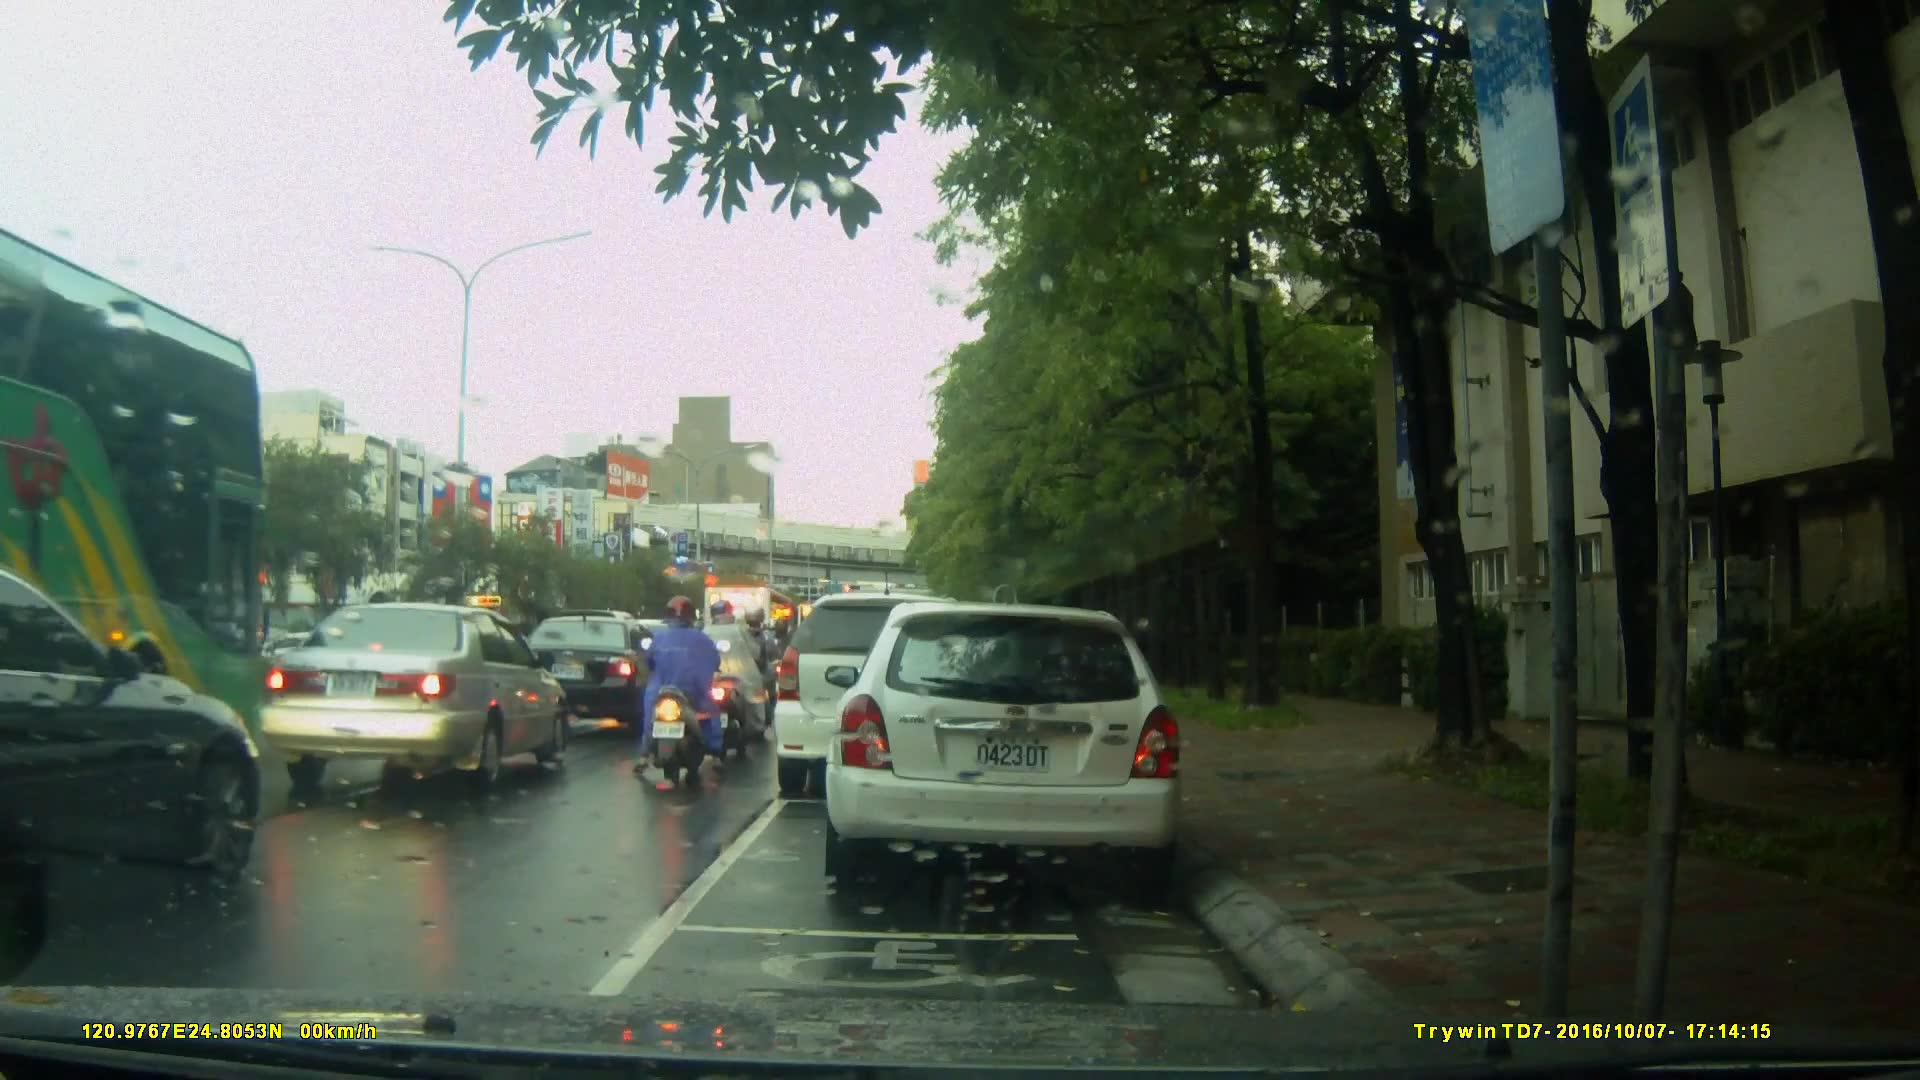rider: (626, 592, 731, 788), (700, 594, 770, 756)
vehicle: (1, 220, 307, 721), (831, 592, 1196, 897), (249, 600, 573, 798), (770, 592, 999, 799), (503, 613, 683, 736), (694, 582, 806, 706)
